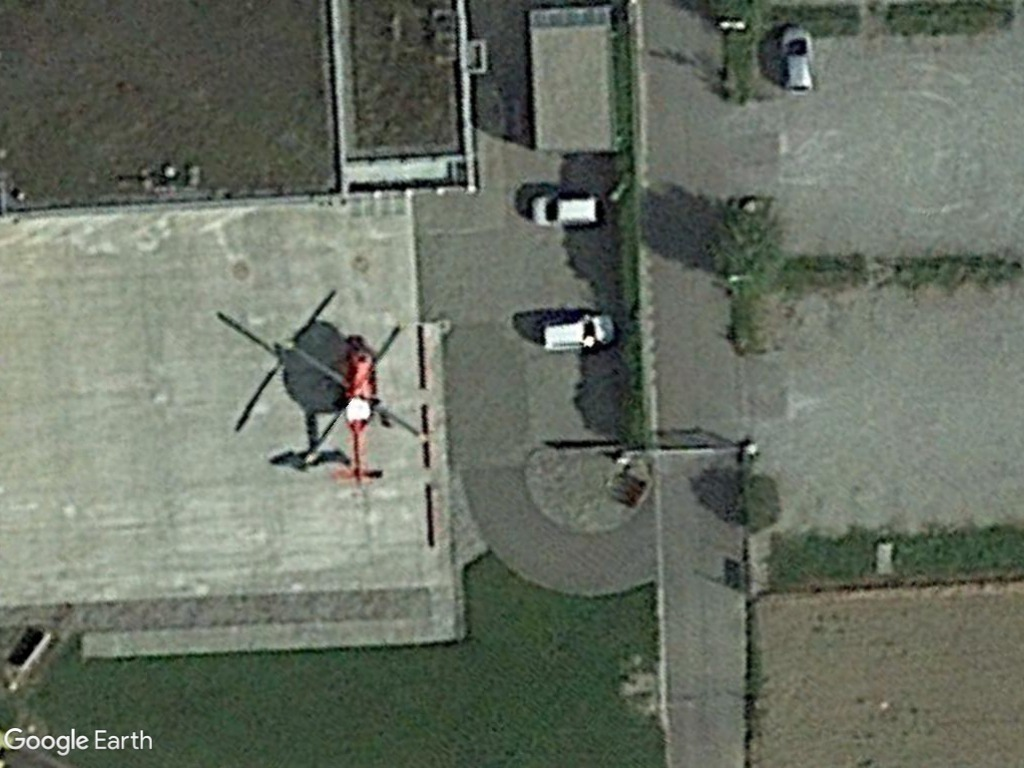car: (526, 190, 610, 231), (538, 310, 618, 352), (777, 21, 820, 97)
helicopter: (280, 322, 431, 498)
